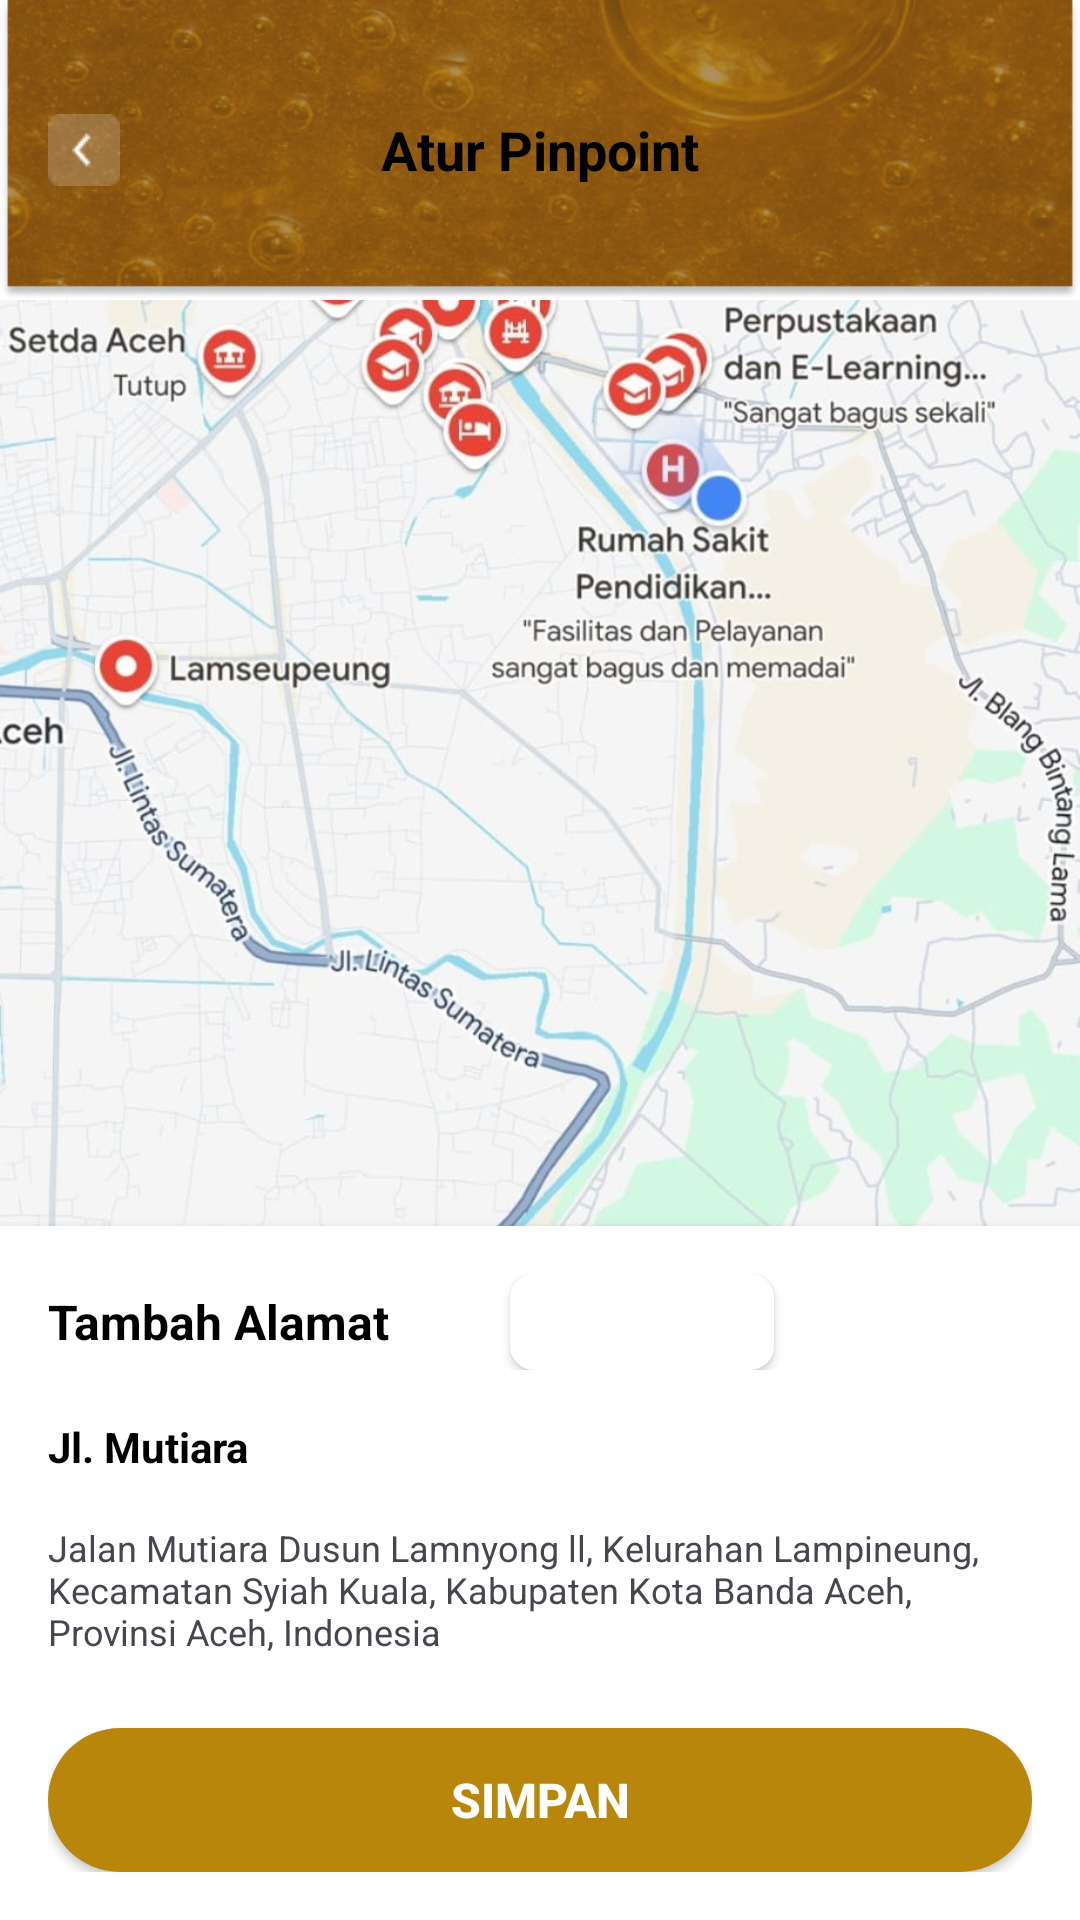

Icons on this 1080px x 1920px Android screen, each with the point to tap as point (x, y):
Back: point (84, 150)
